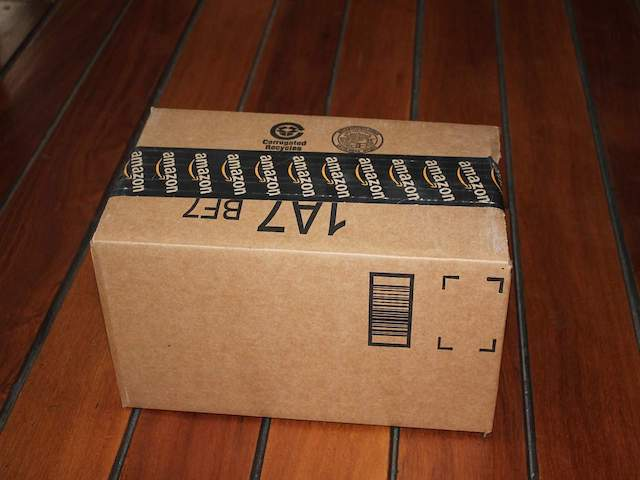package: (91, 107, 514, 437)
